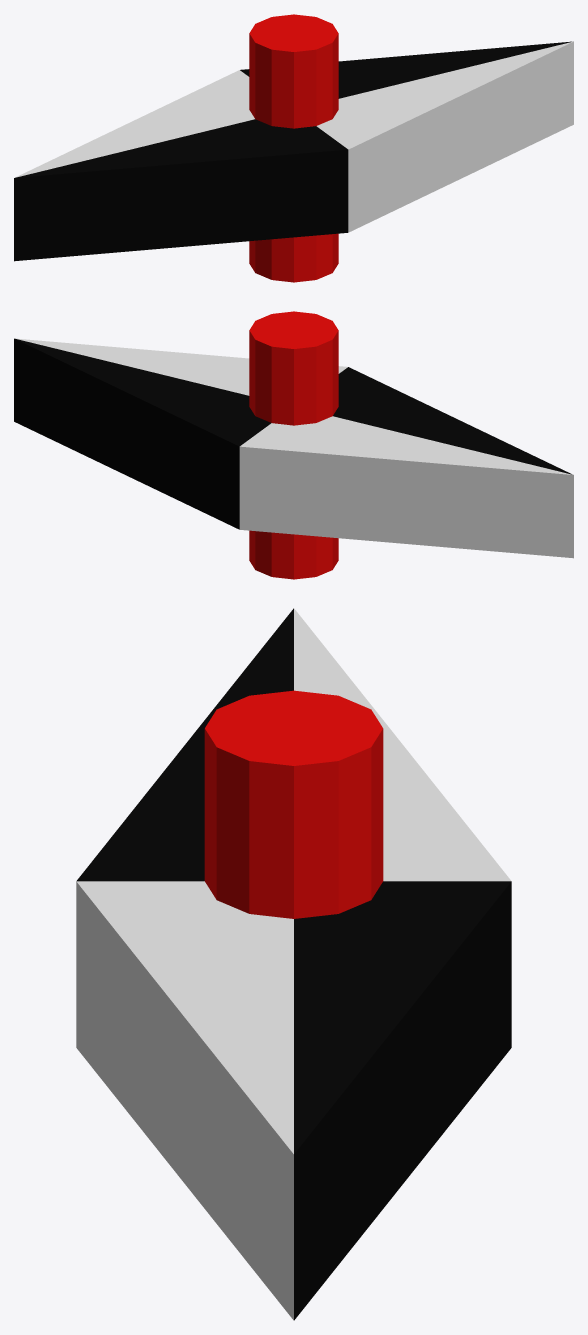
File: Compass.fbx
The picture shows the model from 3 angles, top to bottom: view 1: azimuth 30°, elevation 25°; view 2: azimuth 150°, elevation 25°; view 3: azimuth 270°, elevation 25°; orthographic projection. The views are drawn at different scales.
Parts seen in each view (by area): view 1: CompassArrow; view 2: CompassArrow; view 3: CompassArrow.
Boxes of the visible parts, x1,y1,x2,y2 form: CompassArrow: (14, 14, 573, 282); CompassArrow: (14, 311, 573, 579); CompassArrow: (76, 608, 511, 1320).
Bounding box in the file's own units: 168 × 66.24 × 56.74.
